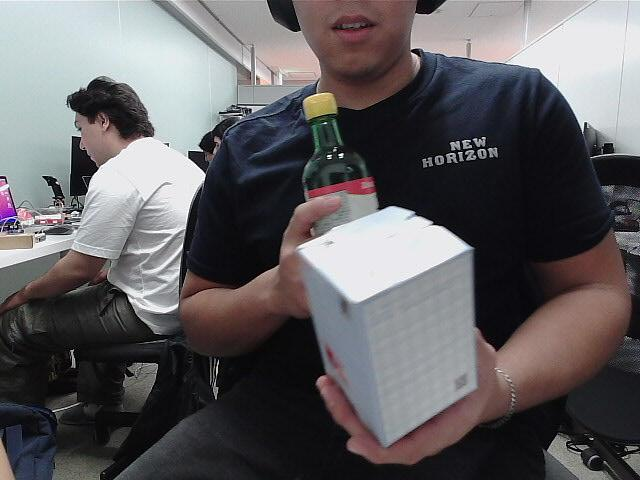Blind_box: (304, 201, 495, 448)
Lemon_sapporo: (293, 86, 382, 244)
